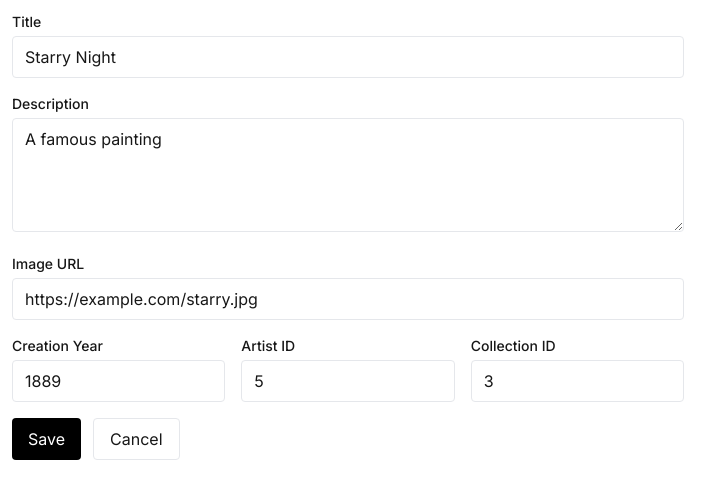
Test: ArtworkEditForm › displays a validation error for an invalid image URL
Replace the text in the field labelled "Image URL" with "not-a-url" at point(348, 299), box [12, 278, 684, 320]
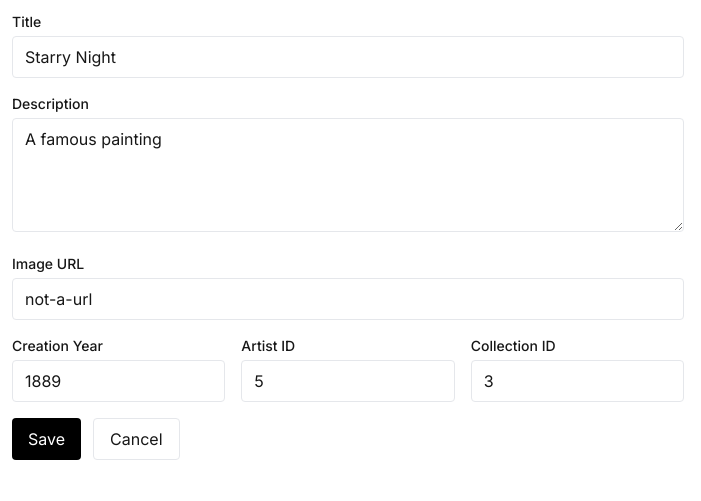
Click the button "Save".
click(46, 439)  # box [12, 418, 81, 460]
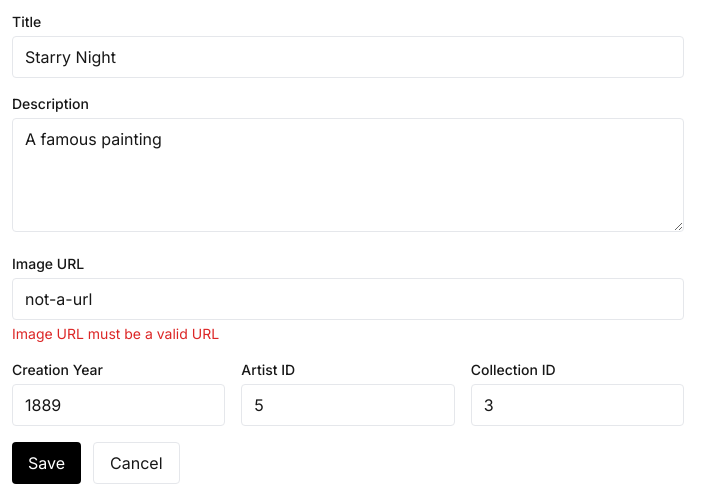
Expected: the text "Image URL must be a valid URL" is shown, [12, 325, 219, 342]
